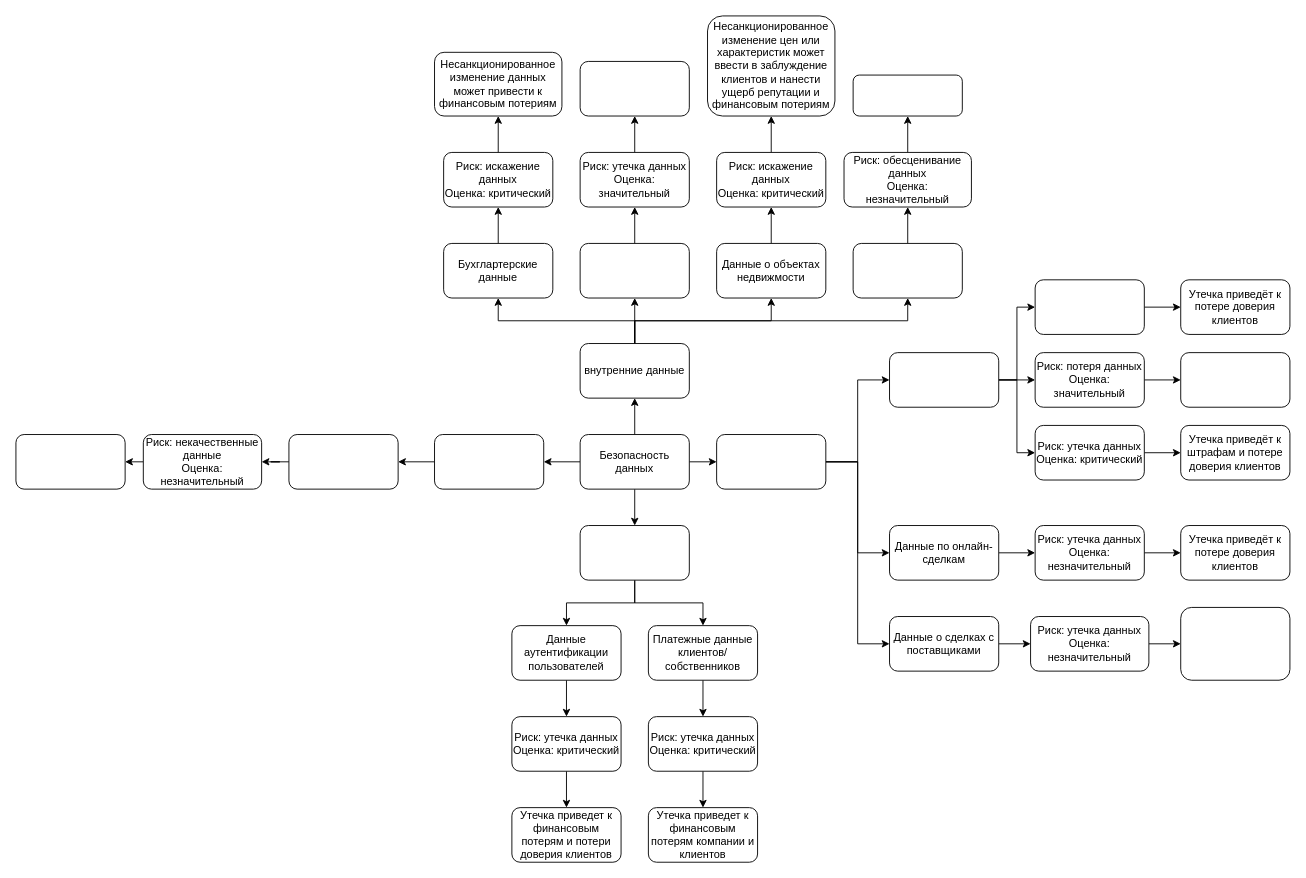
This 1306x878 diagram has some shape labels left out. The shapes that lost their labels are listed below. From the top down, each one's centre as x and y in pixels, then its label:
At [634,88]: "Утечка системных данных облегчит кибератаки".
At [907,95]: "Не может расширять направление обработки данных".
At [634,270]: "Системные и технические данные".
At [907,270]: "Данные для BI/ML/AI".
At [1089,306]: "Риск: искажение данных Оценка: значительный".
At [944,379]: "Персональные данные клиентов и собственников".
At [1235,379]: "Потеря данных приведет к недополучению доходов".
At [70,461]: "Потере доверия клиентов, упущенные доходы".
At [343,461]: "Общие сведения оо объектах недвижимости".
At [489,461]: "публичные данные".
At [771,461]: "конфиденциальные данные".
At [634,552]: "секретные данные".
At [1235,643]: "Утечка может предоставить конкурентам стратегические преимущества".
